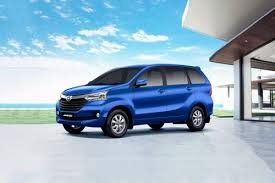mobil: (55, 62, 216, 135)
